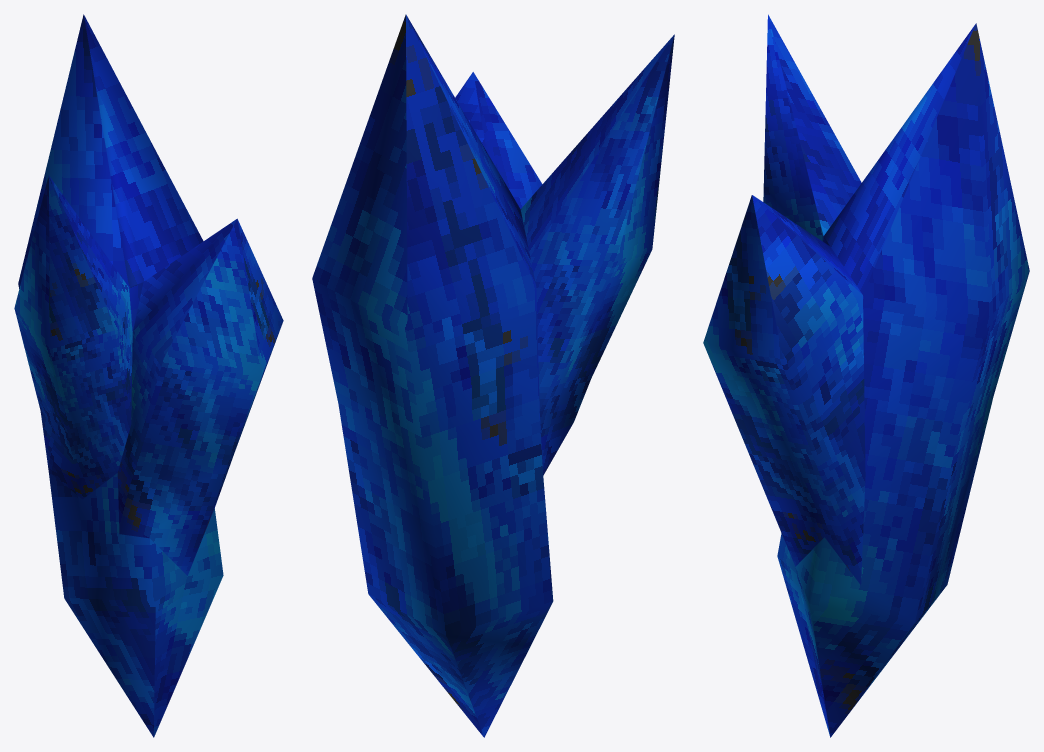
Rendered from OUBLIETTECRYSTAL3.fbx.
3 views of the same model, side by side, from view 1: azimuth 30°, elevation 25°; view 2: azimuth 150°, elevation 25°; view 3: azimuth 270°, elevation 25° (orthographic). The views are drawn at different scales.
Parts seen in each view (by area): view 1: OUBLIETTECRYSTAL3; view 2: OUBLIETTECRYSTAL3; view 3: OUBLIETTECRYSTAL3.
Part boxes in pixels (bbox=[...]): OUBLIETTECRYSTAL3: bbox=[14, 14, 283, 737]; OUBLIETTECRYSTAL3: bbox=[312, 14, 674, 737]; OUBLIETTECRYSTAL3: bbox=[703, 14, 1029, 737].
Bounding box in the file's own units: 2994 × 7966 × 3301.
Materials: 1 (1 with a texture image).
